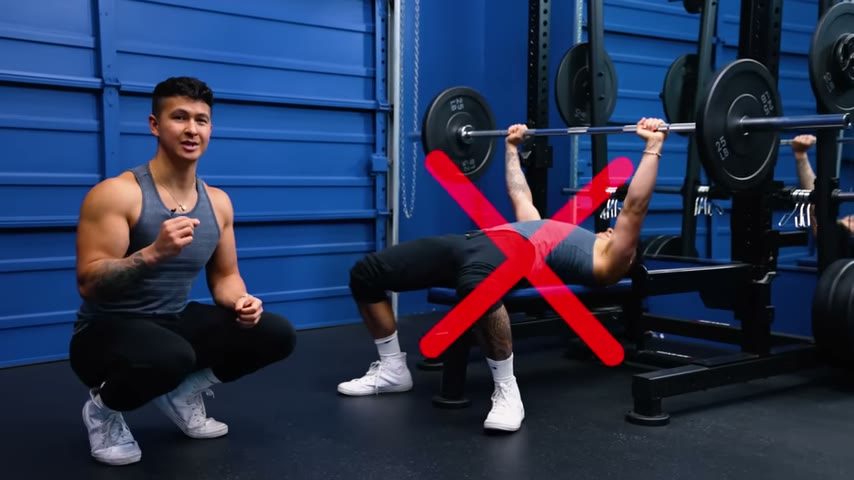barbell_plate_side: (693, 29, 775, 207)
